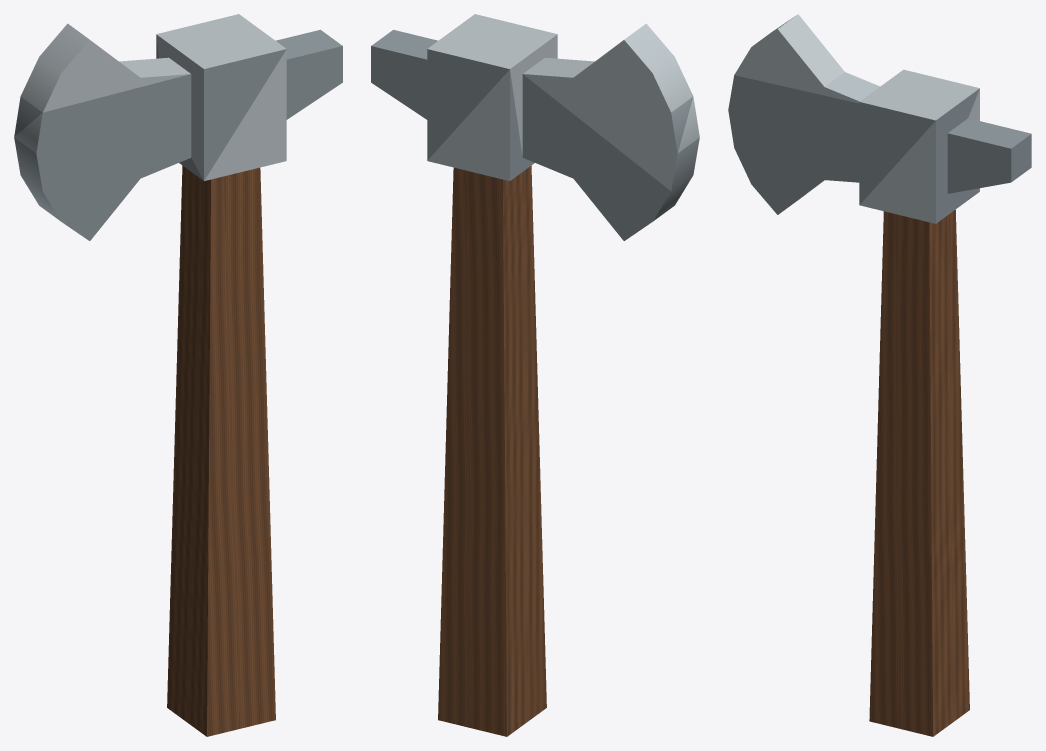
File: axe_v1.glb
The picture shows the model from 3 angles, left to right: view 1: azimuth 30°, elevation 25°; view 2: azimuth 150°, elevation 25°; view 3: azimuth 330°, elevation 25°; orthographic projection. The views are drawn at different scales.
Parts seen in each view (by area): view 1: Basic_axe; view 2: Basic_axe; view 3: Basic_axe.
Part boxes in pixels (x1,y1,x2,y2): Basic_axe: (14, 14, 342, 736); Basic_axe: (371, 14, 699, 736); Basic_axe: (728, 14, 1031, 736).
Size of the model in its own units: 0.322 by 0.72 by 0.087.
3 materials, 1 textured.
